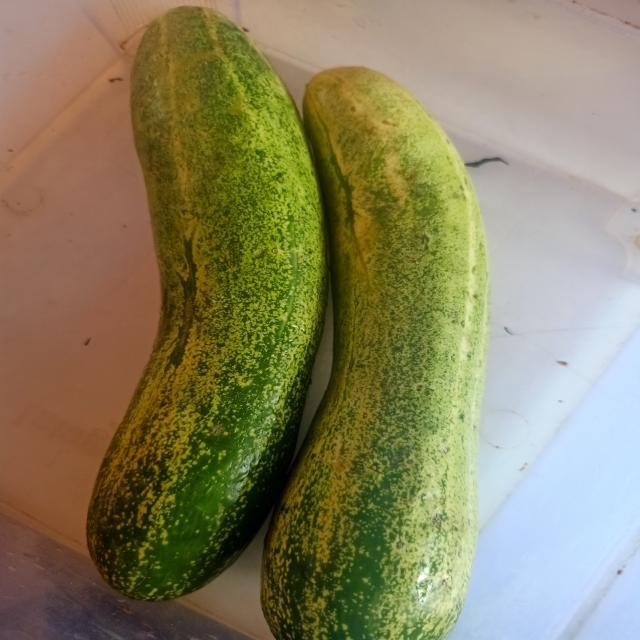Cucumber: (86, 6, 327, 601), (86, 6, 326, 602), (261, 66, 489, 640)
